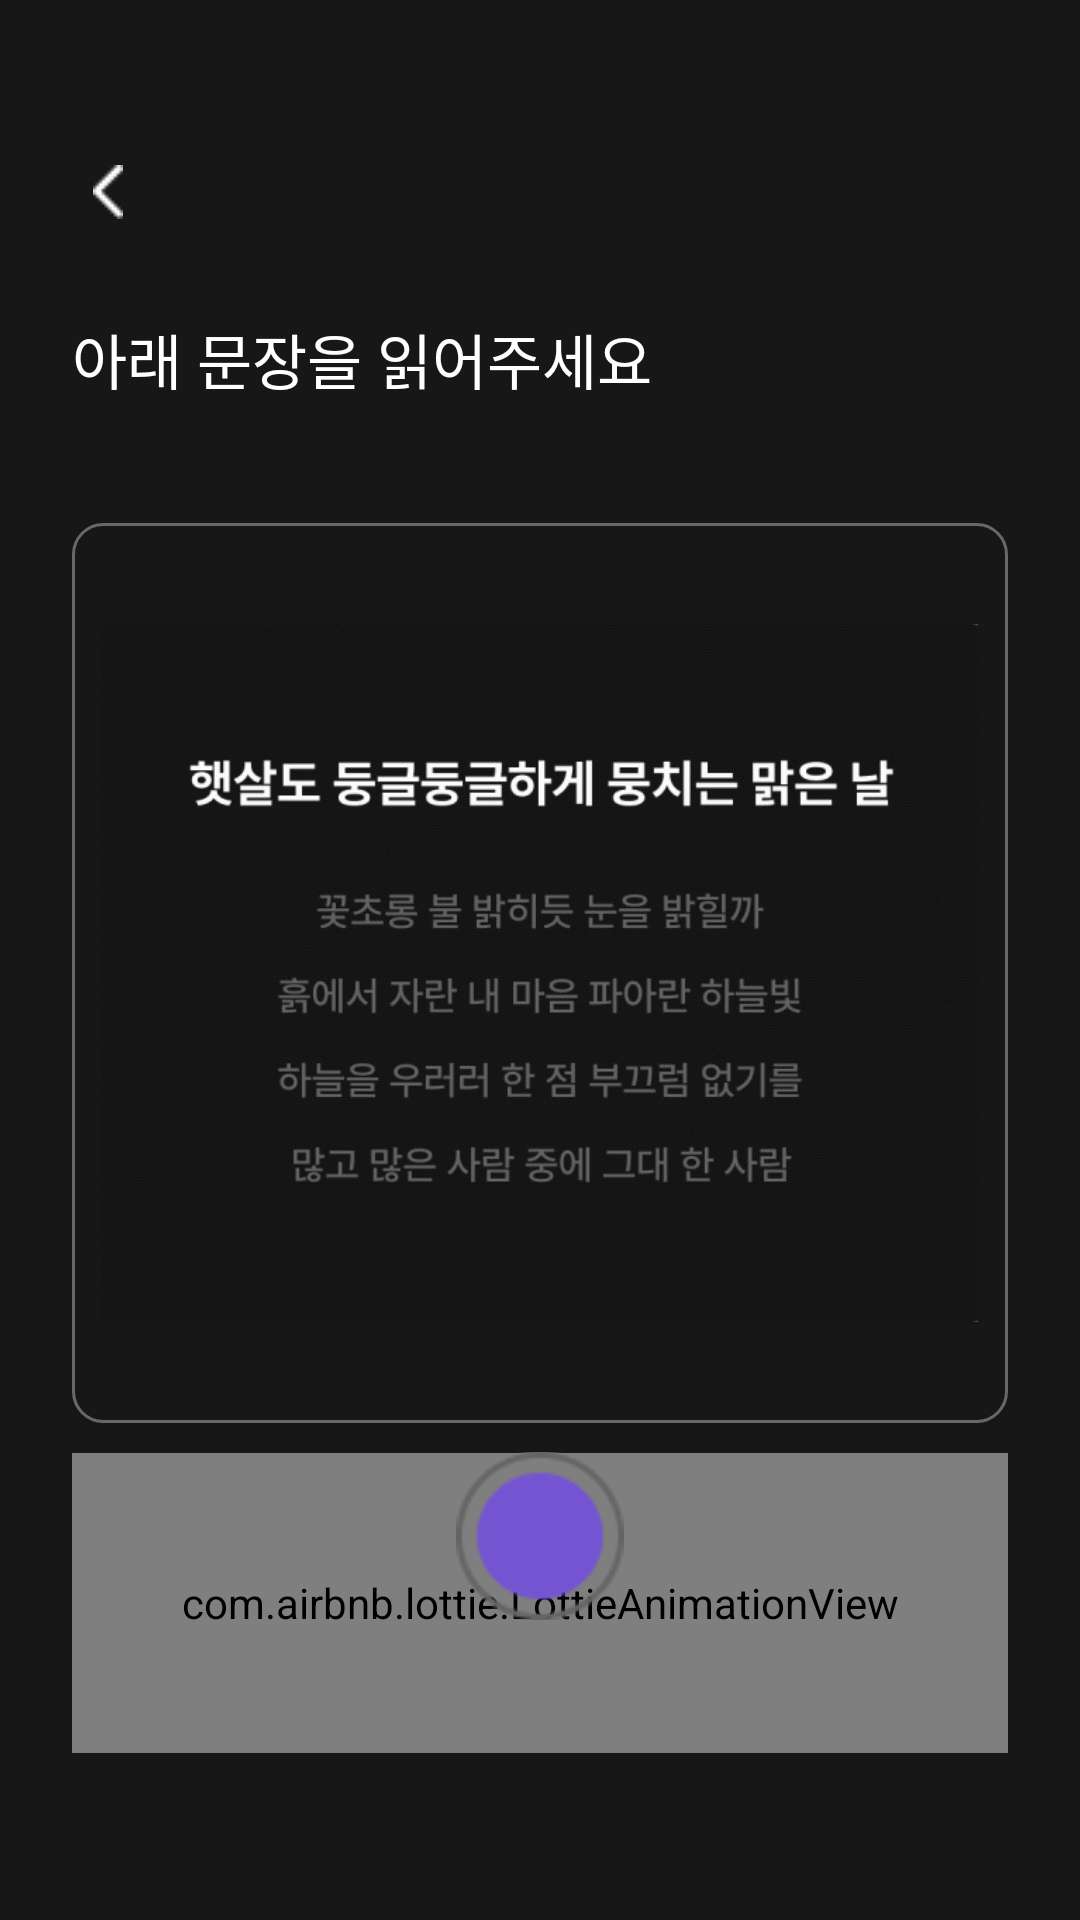

Icon click points for this 1080 × 1920 phone screenshot, format point (x, y):
back: point (108, 192)
